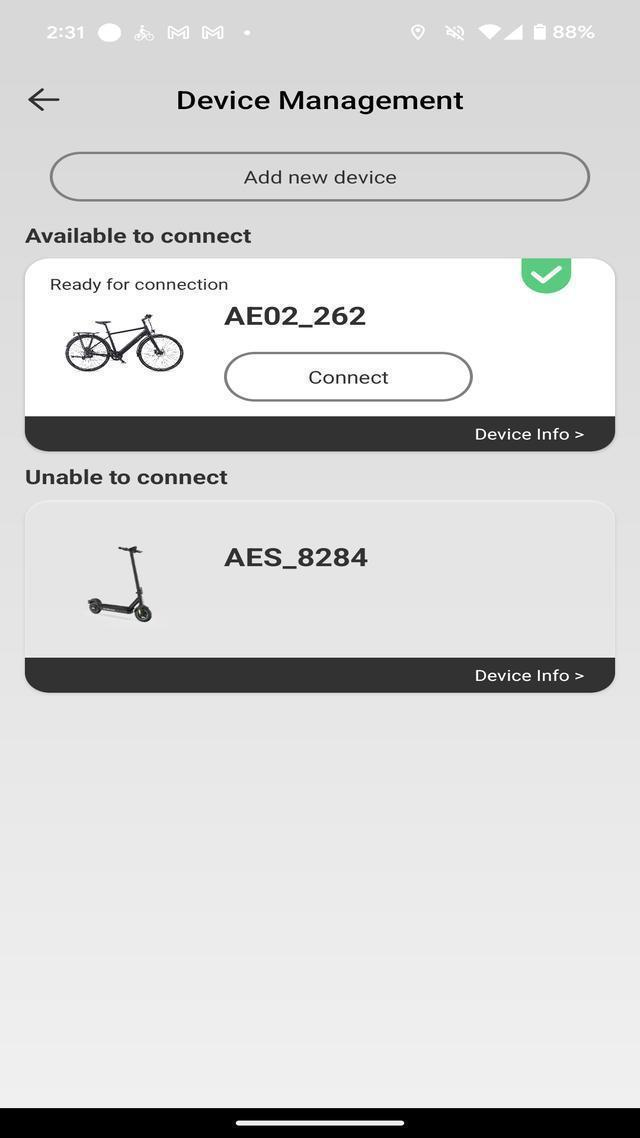Icon: (520, 258, 574, 297), (28, 88, 62, 119), (96, 20, 125, 48), (167, 18, 195, 42), (200, 22, 228, 44), (440, 22, 468, 44), (134, 22, 158, 44), (506, 22, 528, 42), (479, 21, 502, 40), (531, 21, 551, 41), (410, 23, 426, 44), (238, 24, 258, 40)
Image: (68, 531, 176, 636), (49, 309, 190, 380)
Text: (167, 80, 470, 119), (13, 220, 262, 250), (15, 460, 236, 489), (240, 161, 400, 191), (218, 300, 376, 330), (211, 545, 377, 572), (42, 272, 238, 294), (471, 662, 592, 686), (469, 421, 589, 442), (306, 364, 396, 392), (41, 18, 88, 44), (554, 20, 598, 45)
TextButton: (48, 150, 591, 204), (21, 414, 616, 455), (27, 656, 617, 694), (225, 350, 473, 403)
